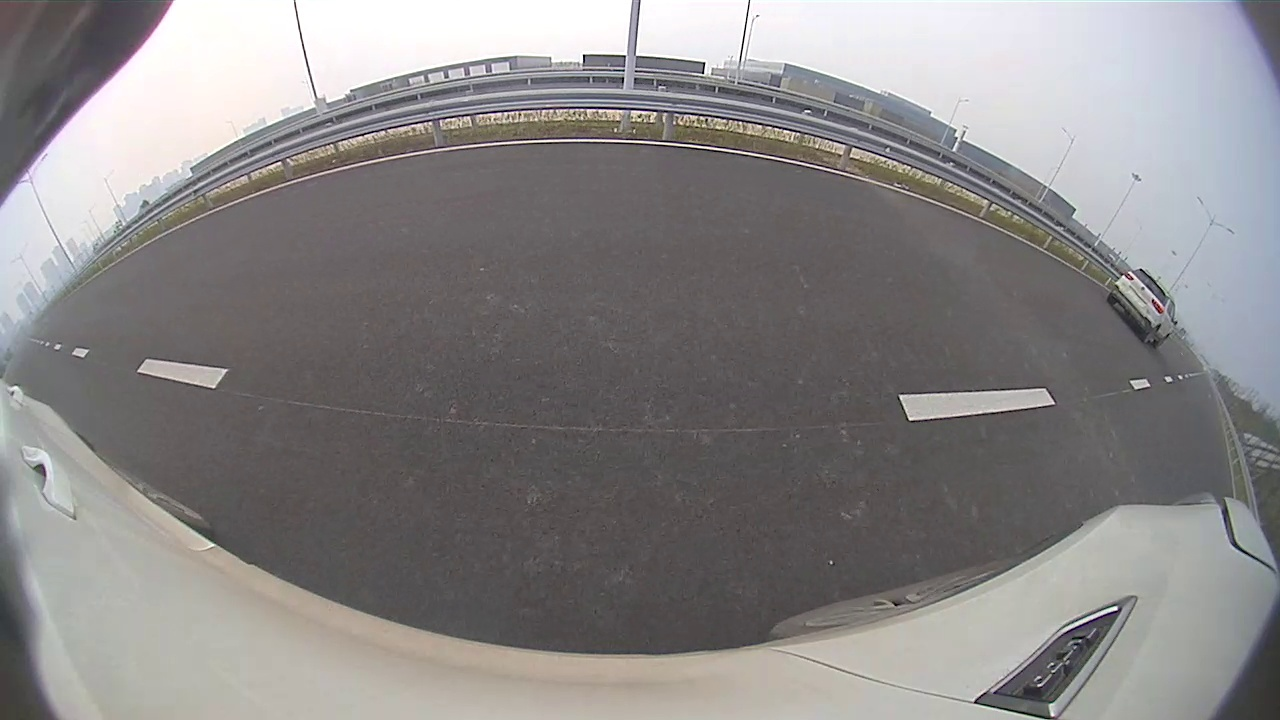car: (708, 79, 1059, 297)
front: (710, 181, 733, 228)
rear: (817, 198, 883, 292)
